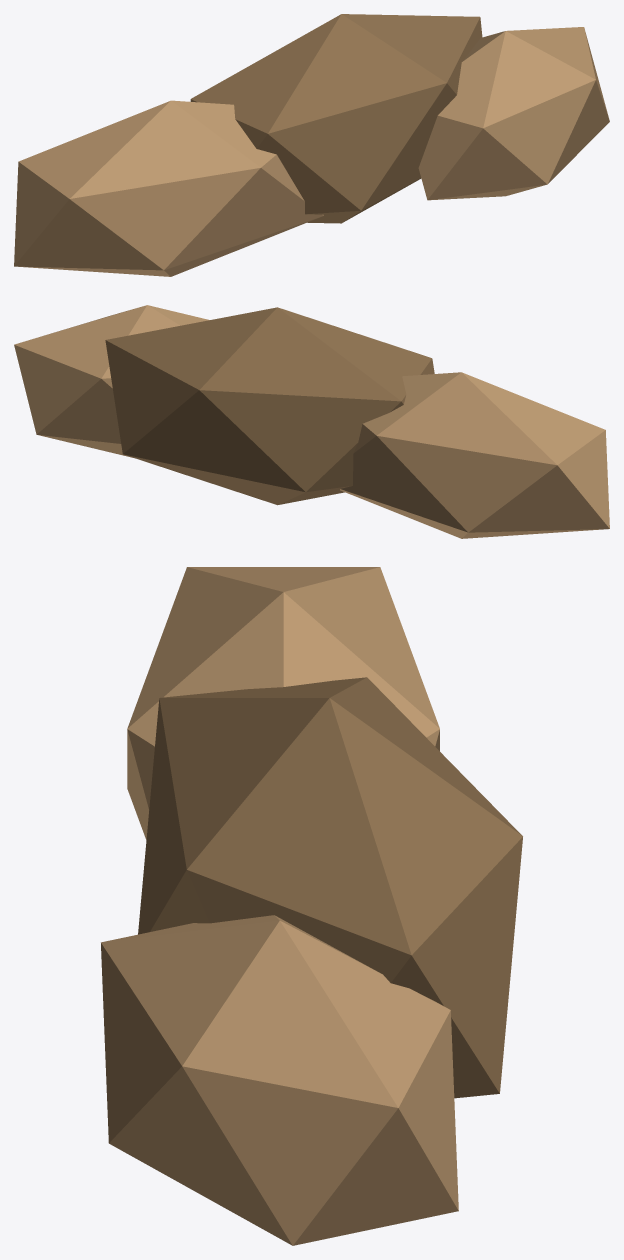
3 views of the same model, one above another, from view 1: azimuth 30°, elevation 25°; view 2: azimuth 150°, elevation 25°; view 3: azimuth 270°, elevation 25° (orthographic). The views are drawn at different scales.
Parts seen in each view (by area): view 1: root_pal_khaki, root_pal_khakiSeam; view 2: root_pal_khaki, root_pal_khakiSeam; view 3: root_pal_khaki, root_pal_khakiSeam.
Boxes of the visible parts, left/top/right/bottom form: root_pal_khaki: left=14, top=27, right=609, bottom=276; root_pal_khakiSeam: left=190, top=14, right=482, bottom=223; root_pal_khaki: left=14, top=305, right=609, bottom=538; root_pal_khakiSeam: left=105, top=307, right=434, bottom=505; root_pal_khaki: left=101, top=567, right=458, bottom=1245; root_pal_khakiSeam: left=138, top=677, right=522, bottom=1098.
Bounding box in the file's own units: 3.42 × 1.14 × 1.1.
